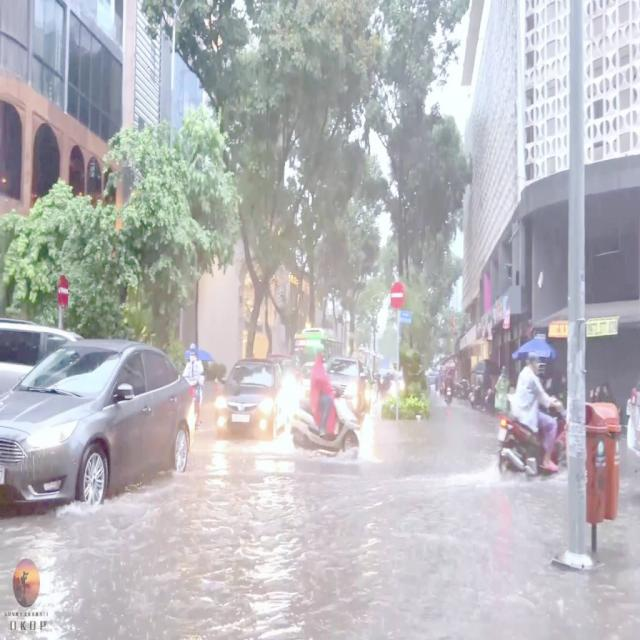cam_xe_di_nguoc_chieu: (391, 280, 407, 308), (58, 276, 68, 308)
